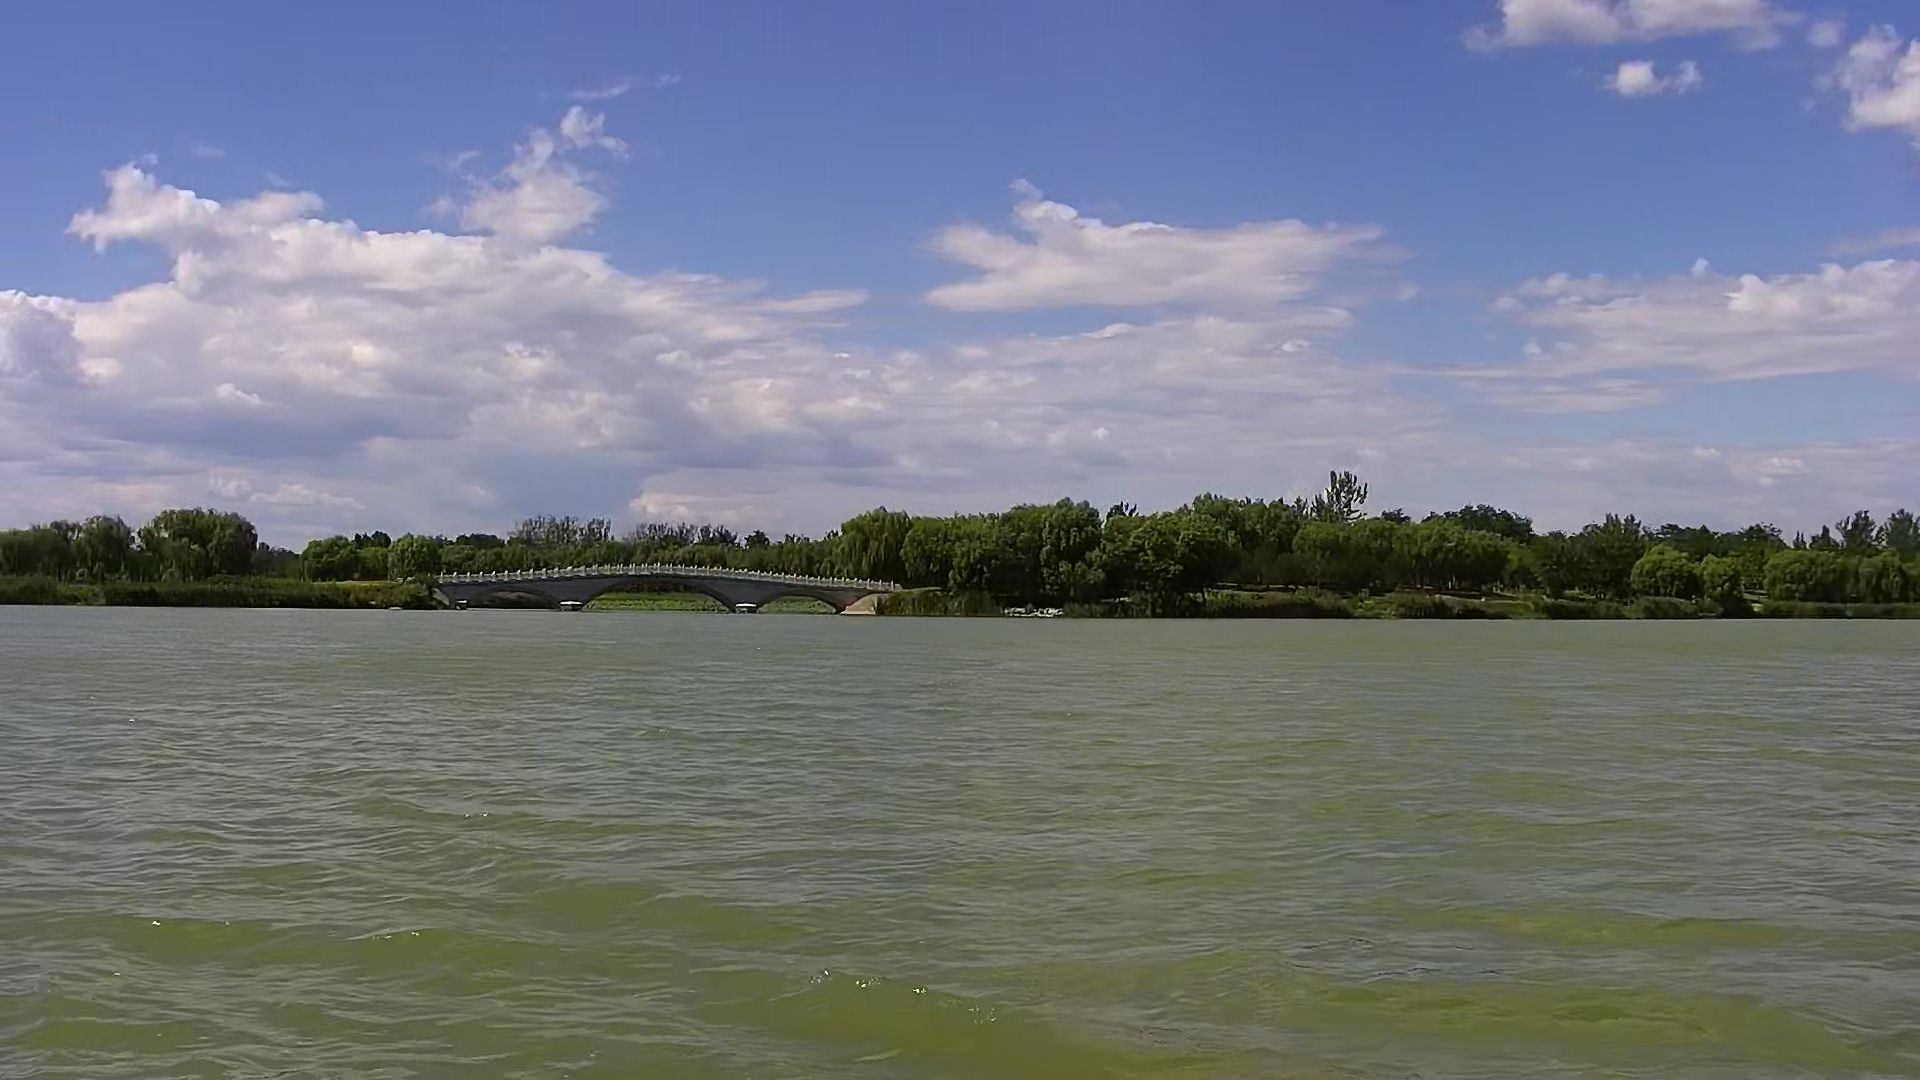bridge: (425, 560, 901, 617)
